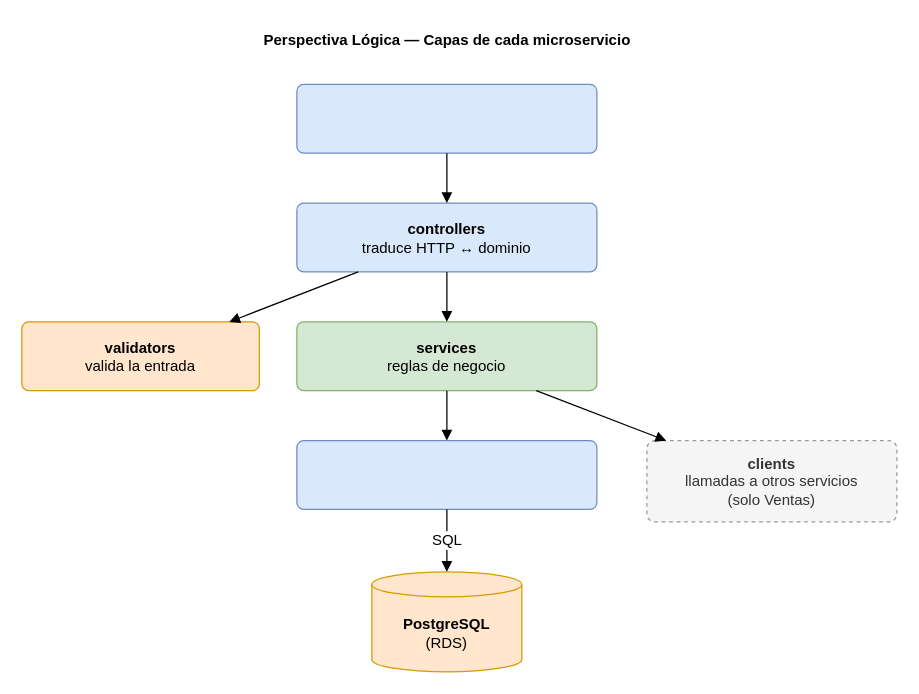
This 919x694 diagram has some shape labels left out. The box of each missing label's shape, as (x1, y1, x2, y2) in pixels:
repositories consultas SQL parametrizadas: (296, 439, 597, 509)
routes rutas y versión de la API: (296, 83, 597, 153)
